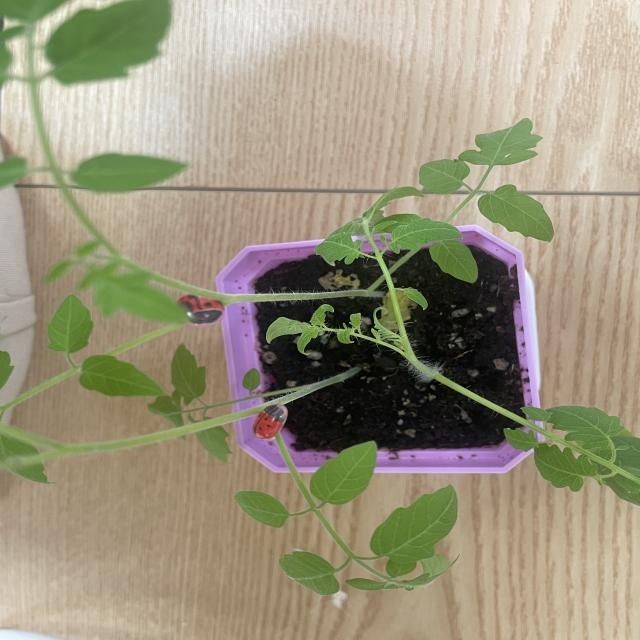bug: (164, 282, 242, 334), (238, 394, 297, 461)
